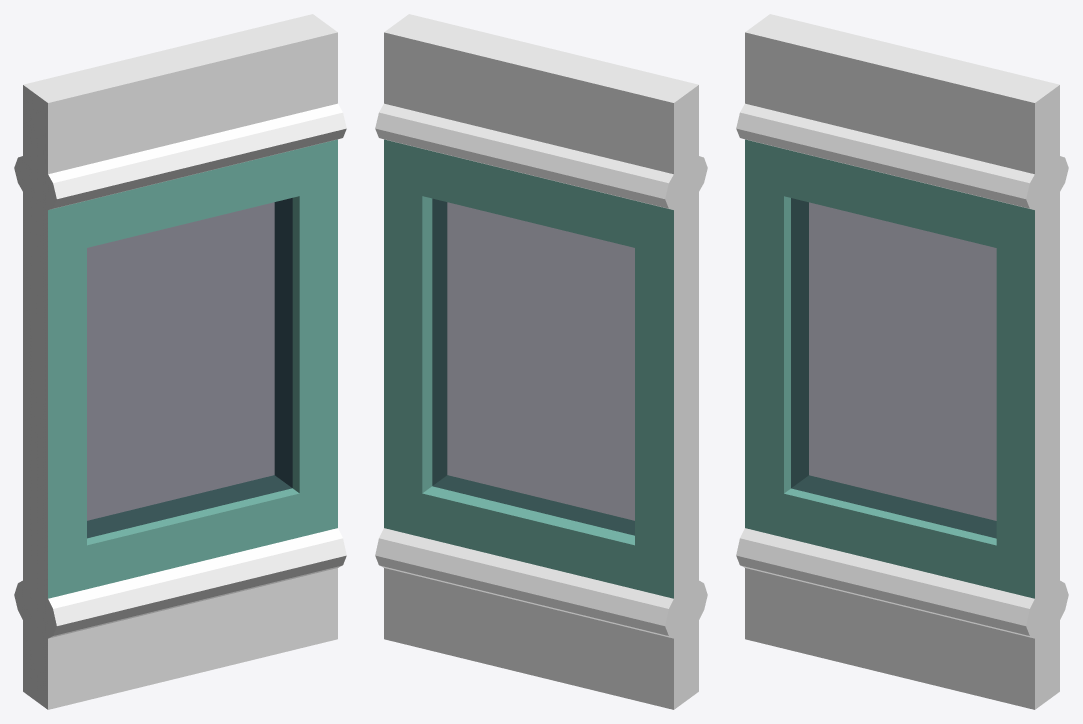
File: FancyWindow.glb
The picture shows the model from 3 angles, left to right: view 1: azimuth 30°, elevation 25°; view 2: azimuth 150°, elevation 25°; view 3: azimuth 330°, elevation 25°; orthographic projection.
Parts seen in each view (by area): view 1: wall_strip_window; view 2: wall_strip_window; view 3: wall_strip_window.
Boxes of the visible parts, <box> form: wall_strip_window: <box>14,14,346,709</box>; wall_strip_window: <box>375,14,707,709</box>; wall_strip_window: <box>736,14,1068,709</box>.
Size of what is drawn, in the model's own units: 2 by 4 by 0.5109.
Materials: 2 (2 with a texture image).
